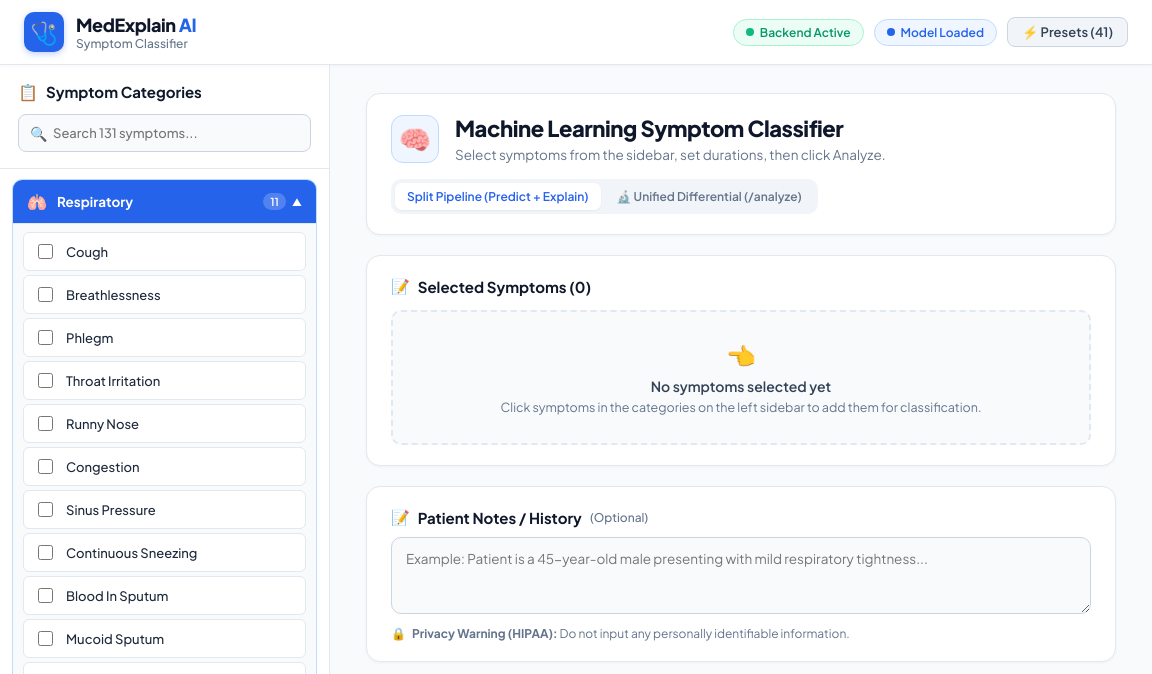
Test: MedExplain Frontend Integration & Safety Tests › should display loading state for prediction while waiting for API response
Click the text "Cough": coordinates (87, 252) [66,244,108,260]
(page scrolled)
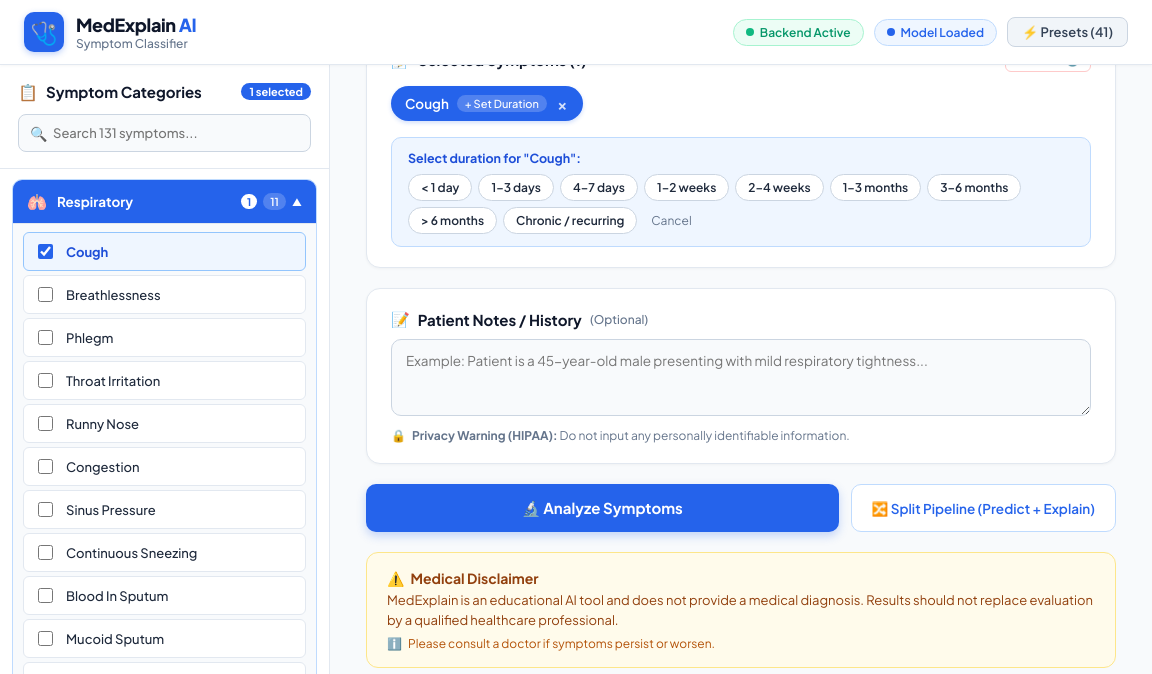
Click the button "🔬 Analyze Symptoms": coordinates (602, 508) [366,484,839,532]
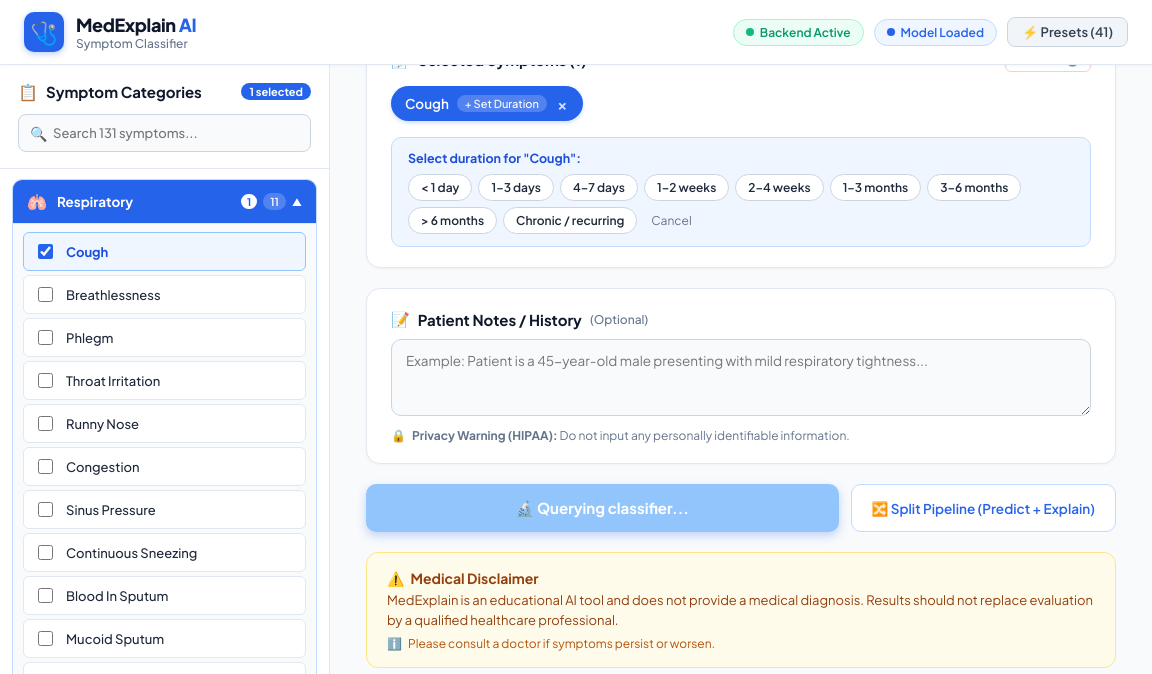
Result: the button "🔬 Querying classifier..." is shown at [366,484,839,532]
